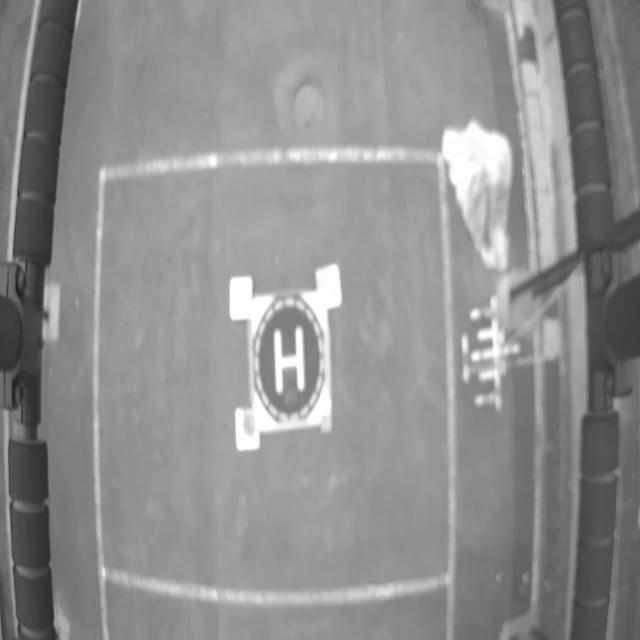Helipad: (273, 326, 306, 394)
